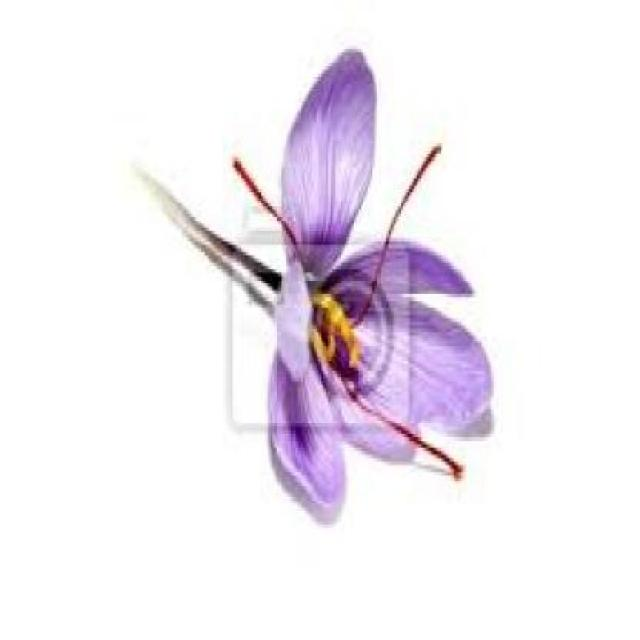saffron open: (182, 50, 492, 522)
